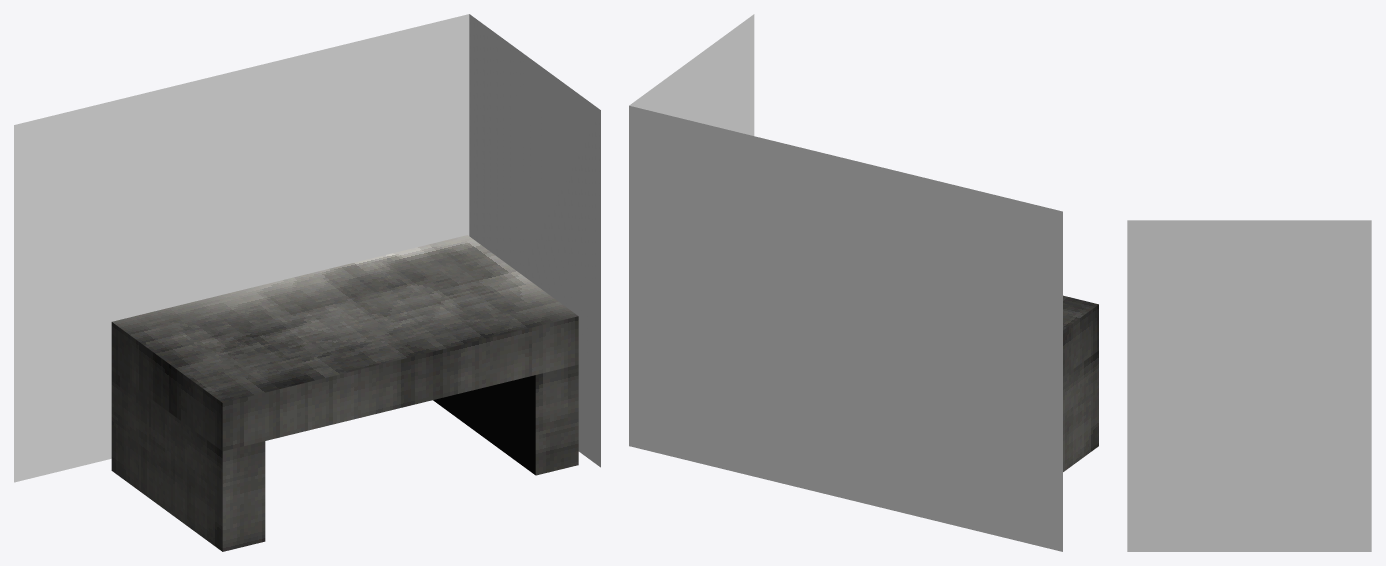
File: workbench-HIBIUTB2.gltf
3 renders of one model, left to right at view 1: azimuth 30°, elevation 25°; view 2: azimuth 150°, elevation 25°; view 3: azimuth 270°, elevation 25°, orthographic. The views are drawn at different scales.
Visible parts, largest first — view 1: plane (×3), workbench; view 2: plane (×3), workbench; view 3: plane.
Part boxes in pixels (left/top/right/bottom): plane (×3): left=14, top=14, right=600, bottom=482; workbench: left=111, top=235, right=578, bottom=551; plane (×3): left=629, top=14, right=1062, bottom=551; workbench: left=1063, top=295, right=1098, bottom=471; plane: left=1127, top=220, right=1371, bottom=551.
Size of the model in its own units: 2 by 1.5 by 1.
2 materials, 1 textured.
